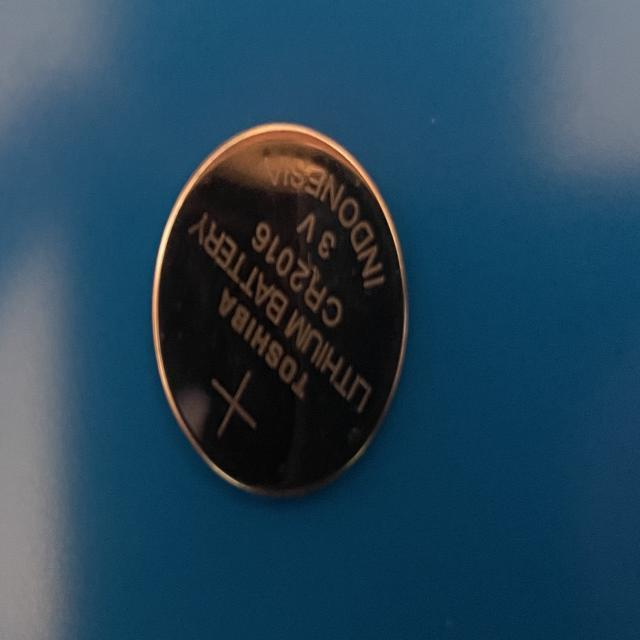COIN: (150, 123, 408, 500)
